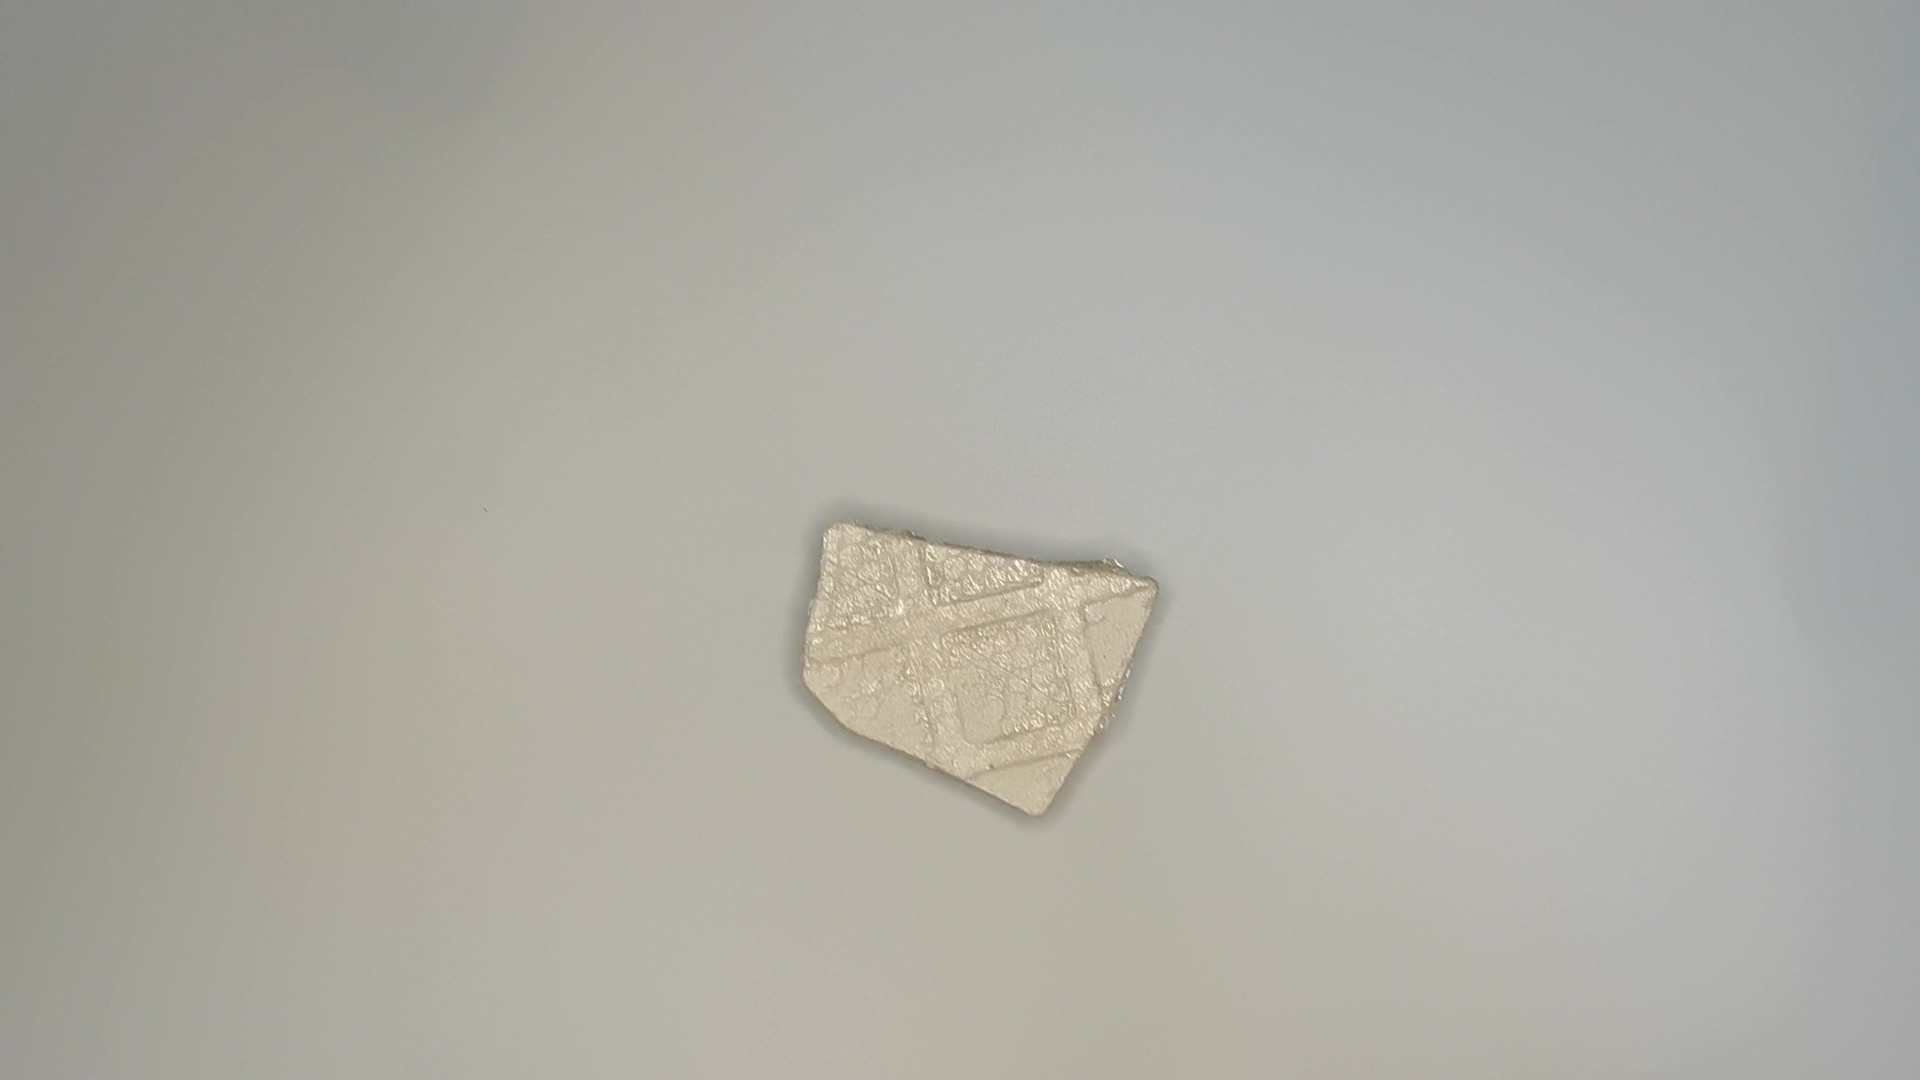ceramic: (800, 513, 1160, 823)
